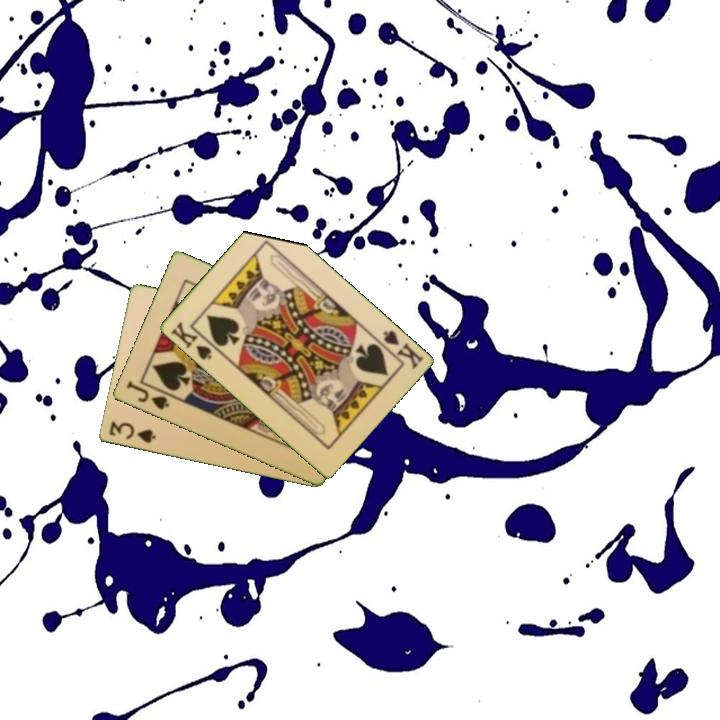3s: (105, 418, 158, 446)
Js: (122, 377, 172, 413)
Ks: (372, 326, 426, 372), (167, 318, 219, 363)
